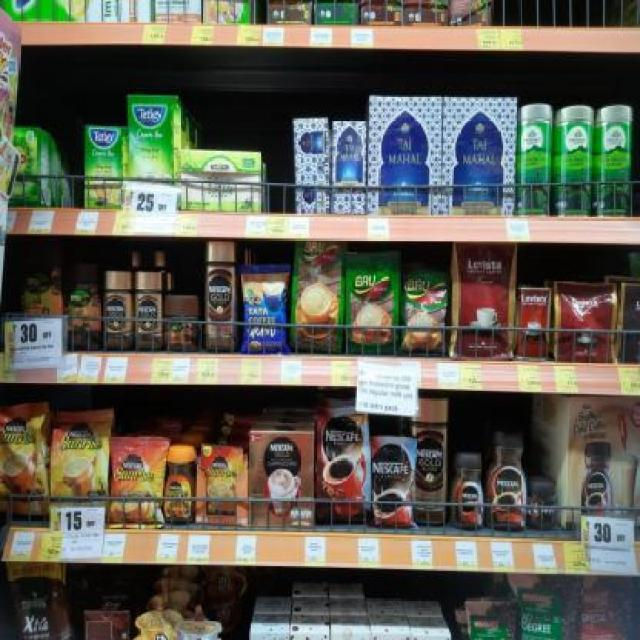Coffee: (51, 415, 109, 516), (319, 416, 371, 524), (0, 405, 48, 521), (111, 438, 163, 522), (489, 429, 529, 533), (415, 400, 447, 524), (372, 439, 414, 528), (205, 240, 235, 351), (164, 448, 197, 524), (454, 455, 487, 531), (106, 273, 132, 349), (135, 273, 159, 349), (529, 481, 555, 527)
